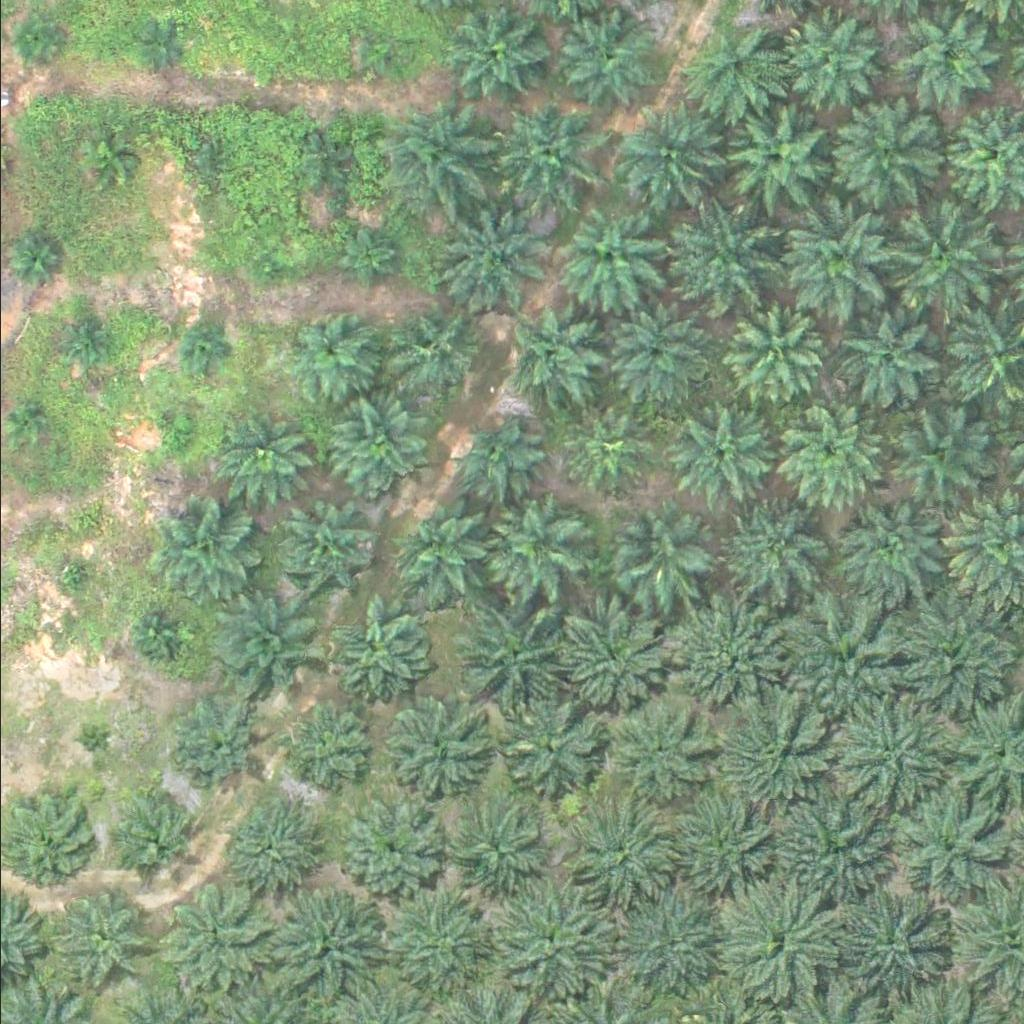Kelapa_Sawit: (769, 198, 895, 323), (828, 483, 954, 608), (887, 600, 1013, 725), (776, 600, 902, 725), (816, 884, 942, 1009), (667, 597, 793, 722), (702, 688, 828, 813), (263, 881, 389, 1006), (370, 878, 496, 1003), (492, 878, 618, 1003), (712, 880, 838, 1005), (825, 695, 950, 820), (551, 592, 676, 717), (600, 881, 714, 994), (827, 99, 940, 212), (431, 201, 544, 314), (661, 199, 774, 312), (894, 792, 1007, 905), (452, 601, 565, 714), (203, 592, 316, 705), (884, 201, 998, 313), (766, 398, 880, 510), (487, 100, 600, 212), (379, 96, 492, 208), (153, 881, 266, 993), (889, 9, 990, 109), (391, 499, 492, 599), (322, 394, 423, 494), (598, 305, 699, 405), (504, 305, 605, 405), (385, 298, 486, 398), (558, 206, 659, 306), (722, 110, 823, 210), (625, 103, 726, 203), (442, 4, 543, 104), (554, 11, 655, 111), (689, 20, 790, 120), (777, 7, 878, 107), (324, 600, 425, 700), (376, 697, 477, 797), (497, 695, 598, 795), (609, 700, 710, 800), (567, 808, 668, 908), (338, 801, 439, 901), (213, 797, 314, 897), (59, 883, 160, 983), (104, 786, 205, 886), (150, 499, 251, 599), (842, 312, 942, 412), (888, 402, 988, 502), (716, 499, 816, 599), (608, 507, 708, 607), (482, 495, 582, 595), (666, 406, 766, 506), (721, 303, 821, 403), (675, 789, 775, 889), (211, 402, 311, 502), (788, 799, 888, 898), (450, 414, 538, 502), (558, 407, 646, 495), (280, 501, 368, 589), (446, 804, 534, 892), (282, 312, 371, 399), (171, 701, 260, 788), (279, 700, 367, 787), (340, 228, 403, 290), (83, 132, 134, 182), (3, 229, 54, 279), (132, 607, 183, 657), (137, 25, 188, 75), (354, 28, 404, 78), (295, 139, 345, 189), (59, 313, 109, 363), (182, 326, 232, 376), (159, 416, 197, 454), (8, 407, 46, 445), (52, 559, 90, 597), (71, 721, 109, 759), (20, 22, 57, 60), (192, 145, 230, 182), (247, 250, 285, 287)
